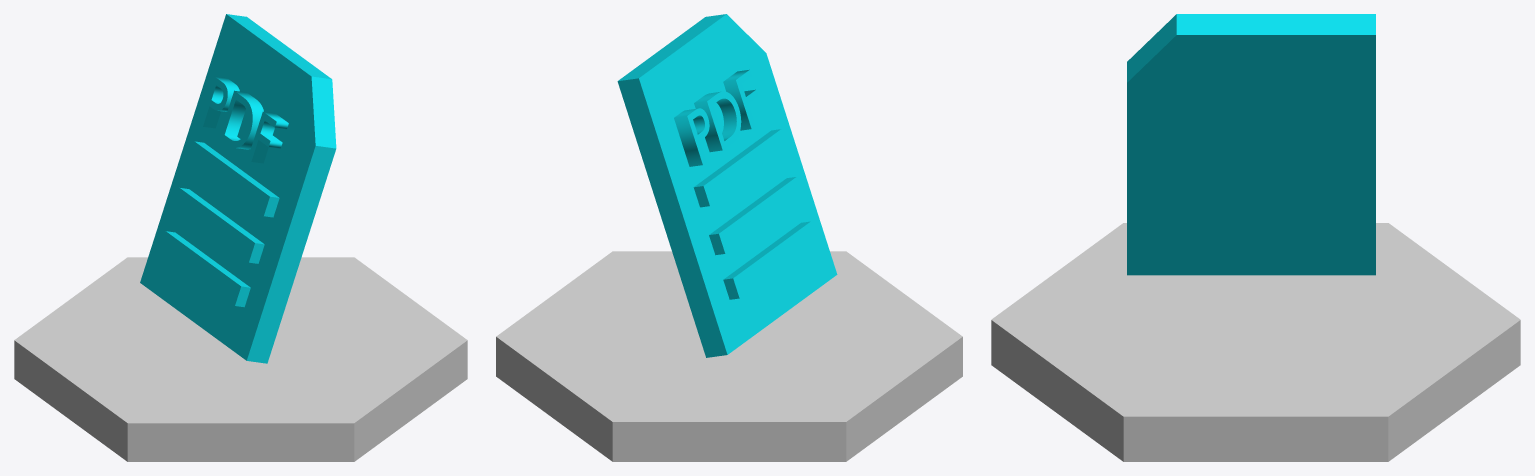
The model's file is mesh_token_5.fbx.
The picture shows the model from 3 angles, left to right: view 1: azimuth 30°, elevation 25°; view 2: azimuth 150°, elevation 25°; view 3: azimuth 270°, elevation 25°; orthographic projection. The views are drawn at different scales.
Parts seen in each view (by area): view 1: mesh_tokenbase_5, mesh_pdf_1, Text; view 2: mesh_tokenbase_5, mesh_pdf_1, Text; view 3: mesh_tokenbase_5, mesh_pdf_1.
Part boxes in pixels (left/top/right/bottom): mesh_tokenbase_5: left=14, top=257, right=467, bottom=461; mesh_pdf_1: left=140, top=14, right=336, bottom=363; Text: left=199, top=76, right=288, bottom=163; mesh_tokenbase_5: left=496, top=251, right=962, bottom=461; mesh_pdf_1: left=617, top=14, right=837, bottom=357; Text: left=674, top=69, right=757, bottom=166; mesh_tokenbase_5: left=991, top=223, right=1520, bottom=461; mesh_pdf_1: left=1127, top=14, right=1375, bottom=275.
Bounding box in the file's own units: 184 × 165 × 213.
